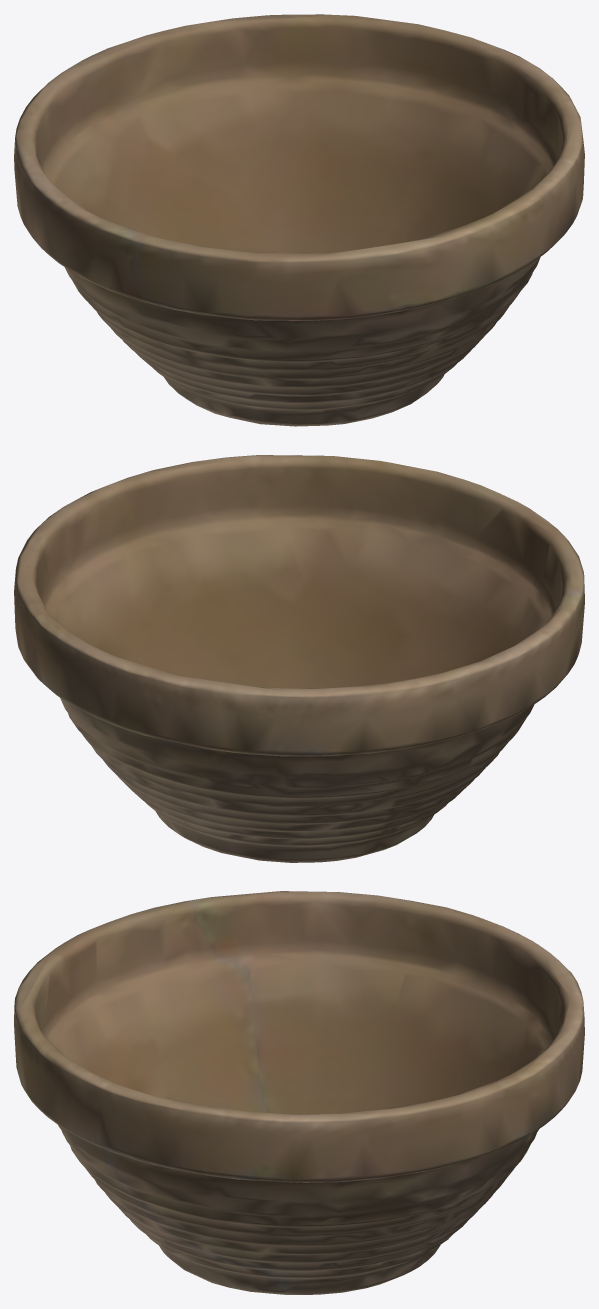
Rendered from Cole_Hardware_Deep_Bowl_Good_Earth_1075-high.glb.
The picture shows the model from 3 angles, top to bottom: view 1: azimuth 30°, elevation 25°; view 2: azimuth 150°, elevation 25°; view 3: azimuth 270°, elevation 25°; orthographic projection.
Visible parts, largest first — view 1: Cole_Hardware_Deep_Bowl_Good_Earth_1075; view 2: Cole_Hardware_Deep_Bowl_Good_Earth_1075; view 3: Cole_Hardware_Deep_Bowl_Good_Earth_1075.
Part boxes in pixels (x1,y1,x2,y2): Cole_Hardware_Deep_Bowl_Good_Earth_1075: (14, 14, 584, 426); Cole_Hardware_Deep_Bowl_Good_Earth_1075: (14, 455, 584, 862); Cole_Hardware_Deep_Bowl_Good_Earth_1075: (14, 891, 584, 1294).
Size of the model in its own units: 0.2837 by 0.1317 by 0.2843.
1 material, 1 textured.
